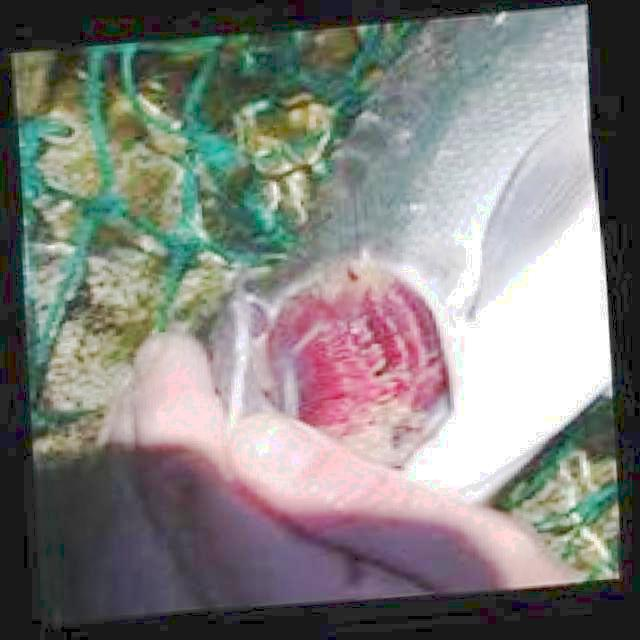Flavobacterium -Bacterial Gill Disease-: (210, 6, 610, 500)
